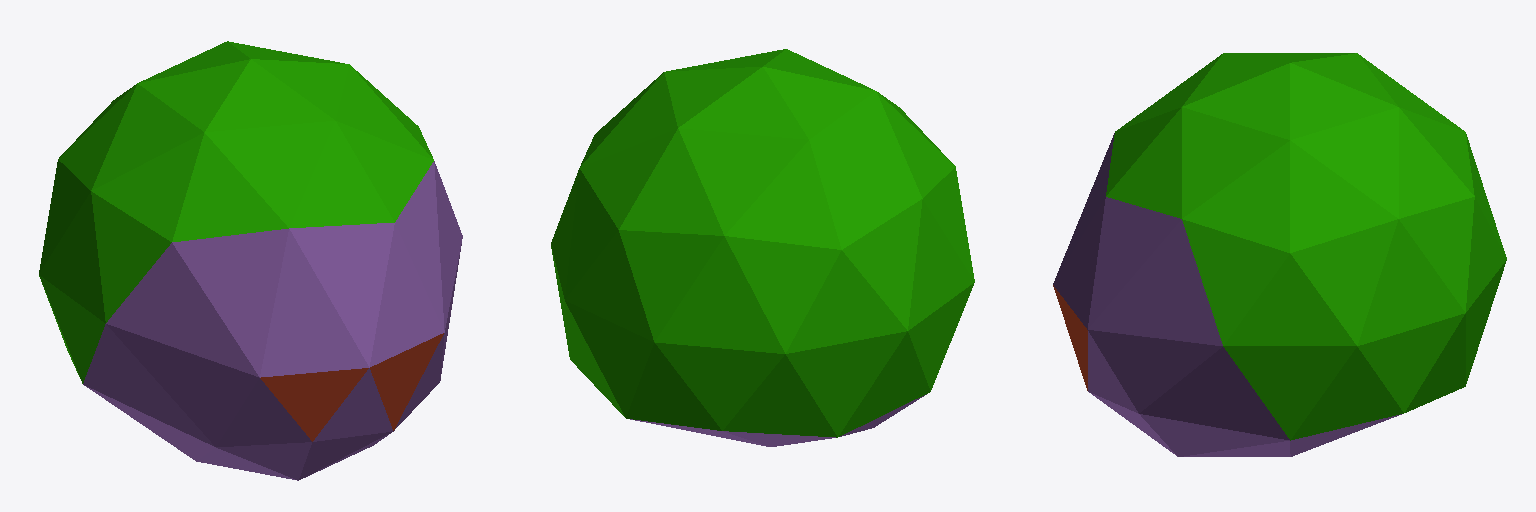
Rendered from santa.obj.
3 renders of one model, left to right at view 1: azimuth 30°, elevation 25°; view 2: azimuth 150°, elevation 25°; view 3: azimuth 270°, elevation 25°, orthographic.
Parts seen in each view (by area): view 1: head; view 2: head; view 3: head.
Boxes of the visible parts, x1,y1,x2,y2 form: head: [39, 41, 462, 480]; head: [551, 49, 974, 446]; head: [1053, 53, 1506, 456].
Size of the model in its own units: 0.4728 by 0.4887 by 0.5207.